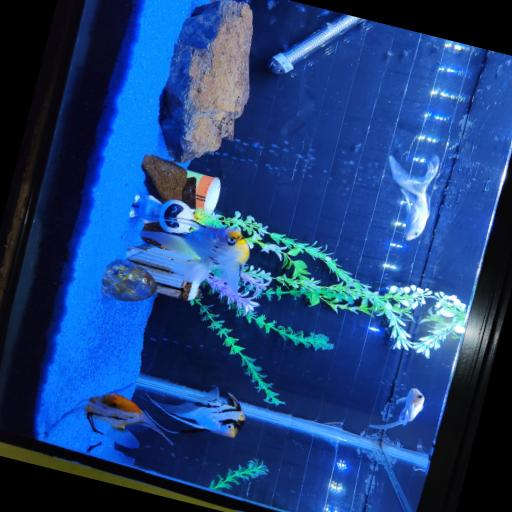Fish: (140, 220, 248, 291), (84, 392, 171, 447), (149, 386, 244, 436), (388, 154, 438, 239), (368, 387, 424, 428)
